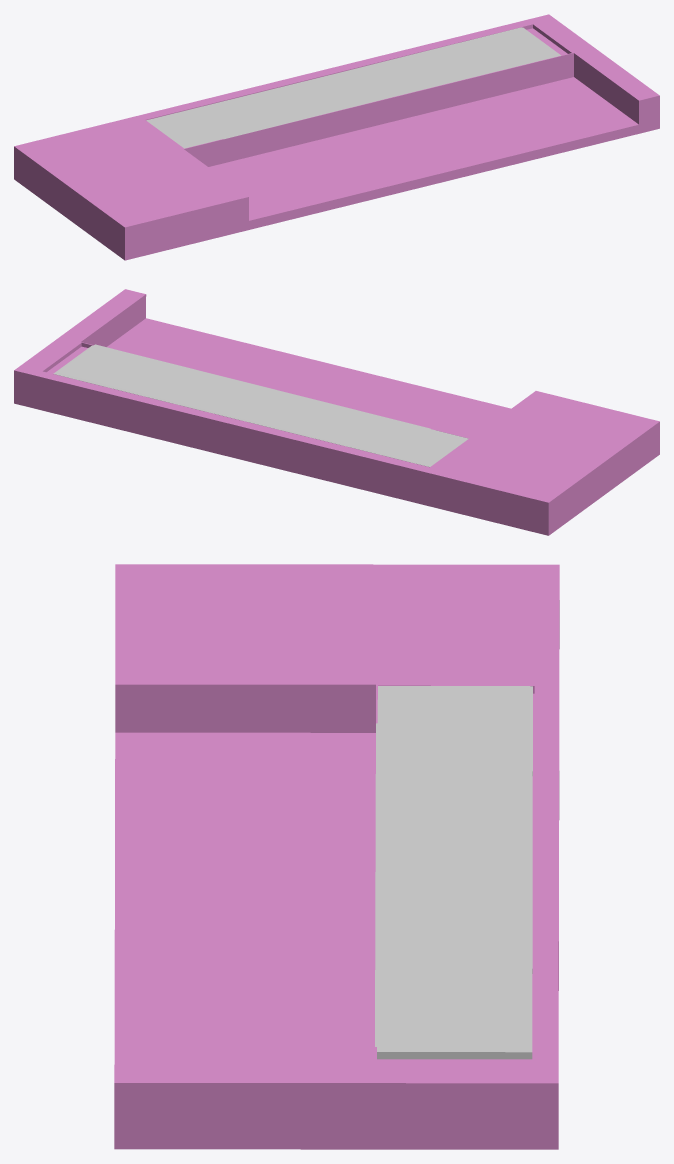
Rendered from casioFrame.gltf.
3 renders of one model, top to bottom at view 1: azimuth 30°, elevation 25°; view 2: azimuth 150°, elevation 25°; view 3: azimuth 270°, elevation 25°, orthographic. The views are drawn at different scales.
Parts seen in each view (by area): view 1: KeyboardBase, panel; view 2: KeyboardBase, panel; view 3: KeyboardBase, panel.
Boxes of the visible parts, box(x1,y1,x2,y2) form: KeyboardBase: box(14, 14, 659, 260); panel: box(146, 27, 560, 148); KeyboardBase: box(14, 289, 659, 535); panel: box(53, 344, 468, 467); KeyboardBase: box(114, 564, 559, 1149); panel: box(375, 686, 532, 1059).
Size of the model in its own units: 4.82 by 0.3083 by 1.74.
